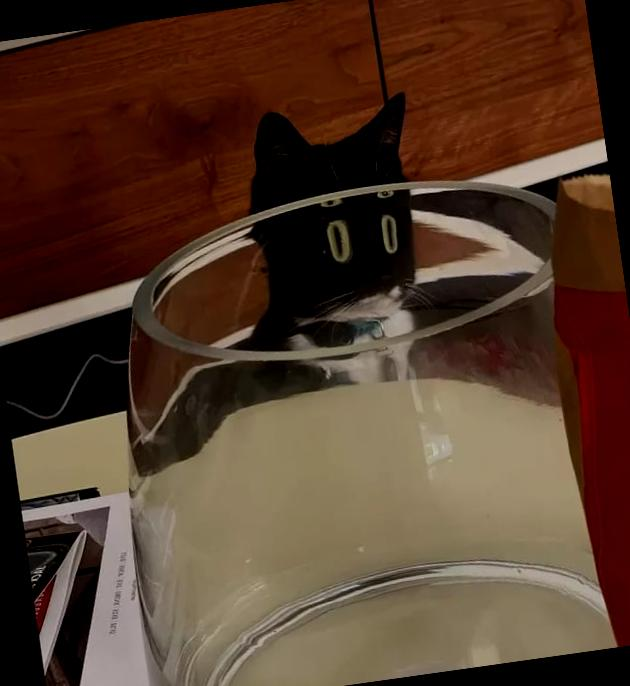macka: (88, 92, 451, 480)
